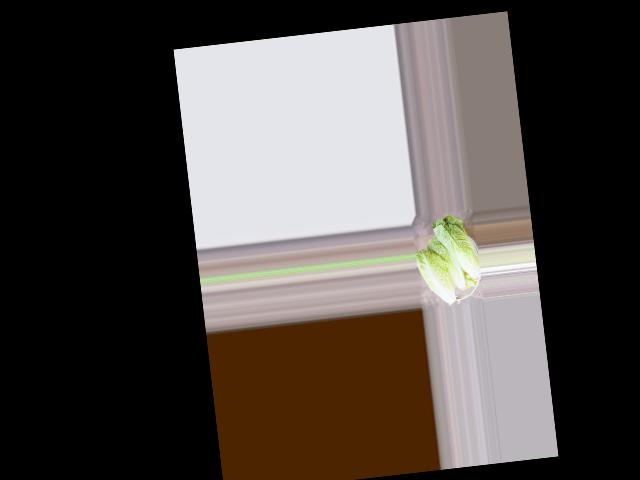lettuce: (430, 214, 482, 290)
